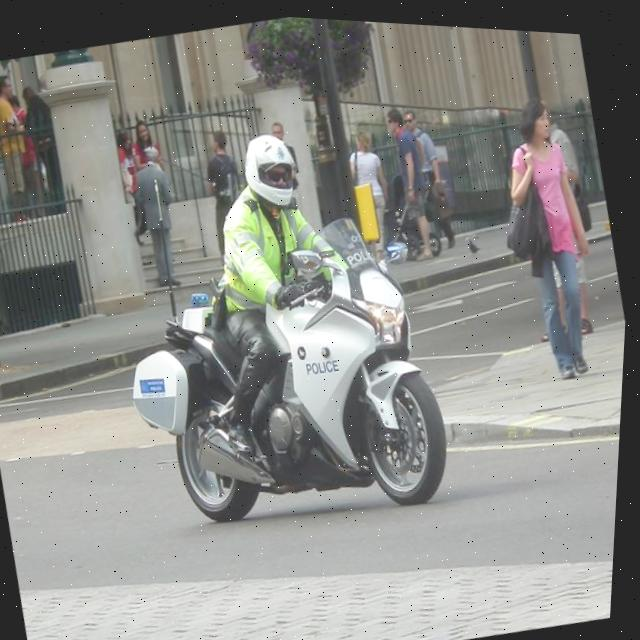motorcycle: (89, 211, 480, 574)
